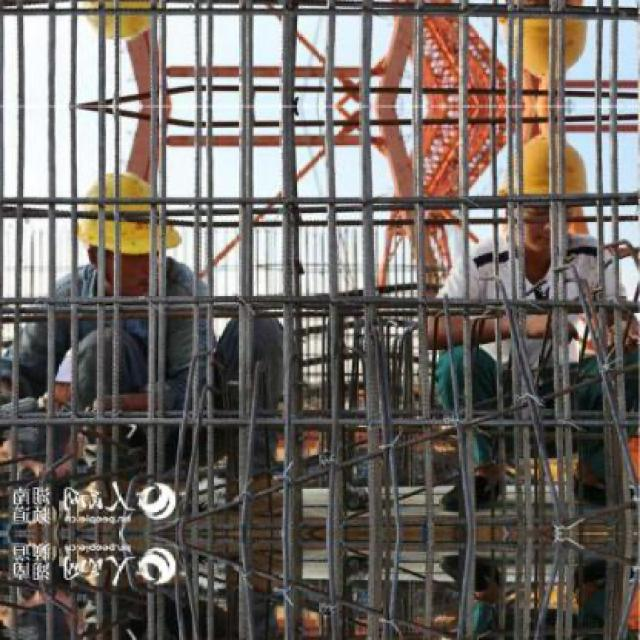con casco: (436, 134, 605, 302), (14, 159, 220, 284)
